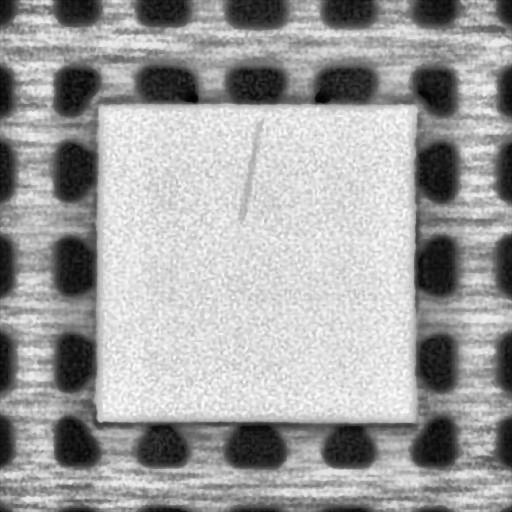DIE_CRACK: (240, 115, 265, 216)
